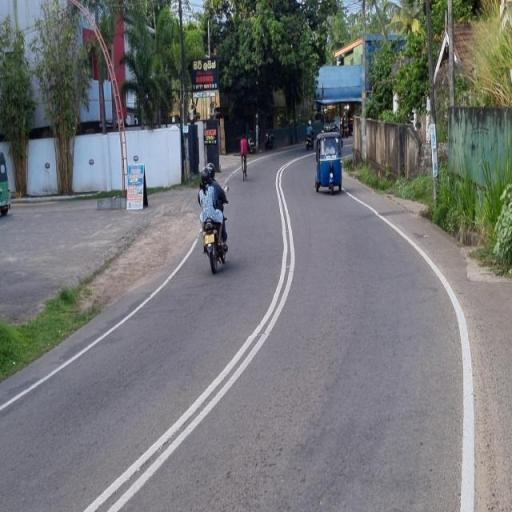double_white_line: (81, 165, 296, 512)
